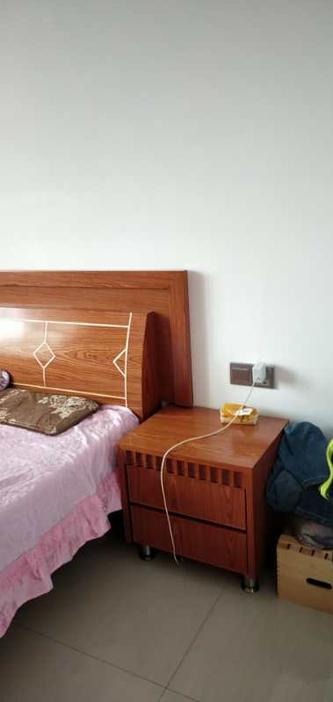switch: (224, 365, 248, 390)
